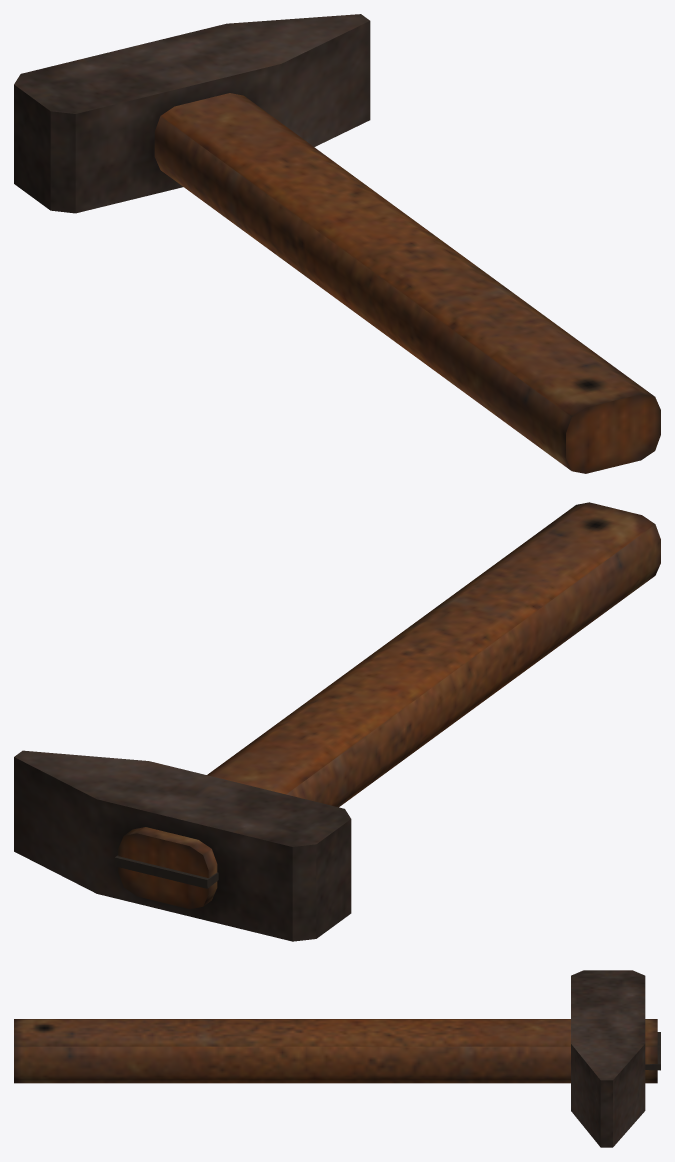
Rendered from hammer_mx_2.obj.
The picture shows the model from 3 angles, top to bottom: view 1: azimuth 30°, elevation 25°; view 2: azimuth 150°, elevation 25°; view 3: azimuth 270°, elevation 25°; orthographic projection. The views are drawn at different scales.
Visible parts, largest first — view 1: hammer_mx_2; view 2: hammer_mx_2; view 3: hammer_mx_2.
Boxes of the visible parts, x1,y1,x2,y2 form: hammer_mx_2: [14, 14, 660, 473]; hammer_mx_2: [14, 502, 660, 941]; hammer_mx_2: [14, 970, 660, 1147].
Size of the model in its own units: 0.21 by 0.06 by 0.5227.
